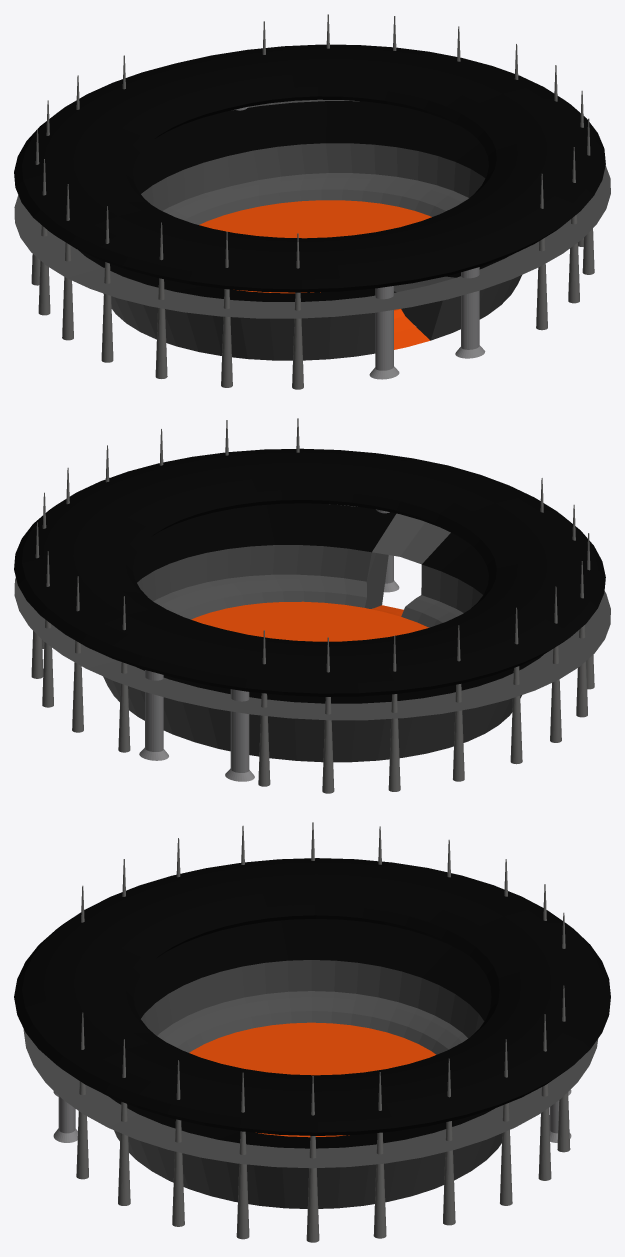
The model's file is Arene.fbx.
3 views of the same model, one above another, from view 1: azimuth 30°, elevation 25°; view 2: azimuth 150°, elevation 25°; view 3: azimuth 270°, elevation 25° (orthographic). The views are drawn at different scales.
Parts seen in each view (by area): view 1: Arene; view 2: Arene; view 3: Arene.
Boxes of the visible parts, x1,y1,x2,y2 form: Arene: (14, 14, 610, 389); Arene: (14, 418, 610, 793); Arene: (14, 822, 610, 1242).
Bounding box in the file's own units: 21744 × 6014 × 19798.
